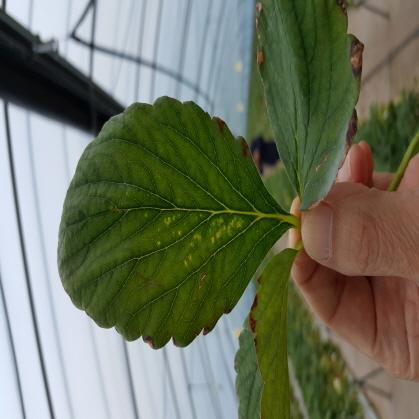Angular Leafspot: (123, 184, 256, 290)
